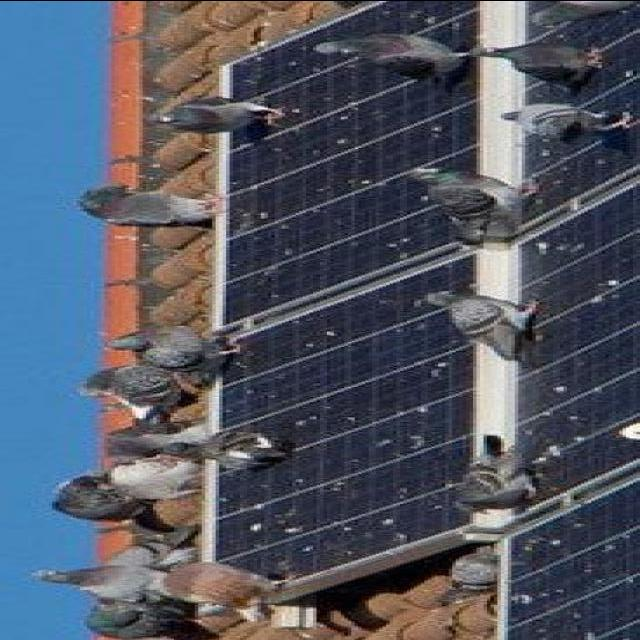soiled: (219, 13, 640, 636)
